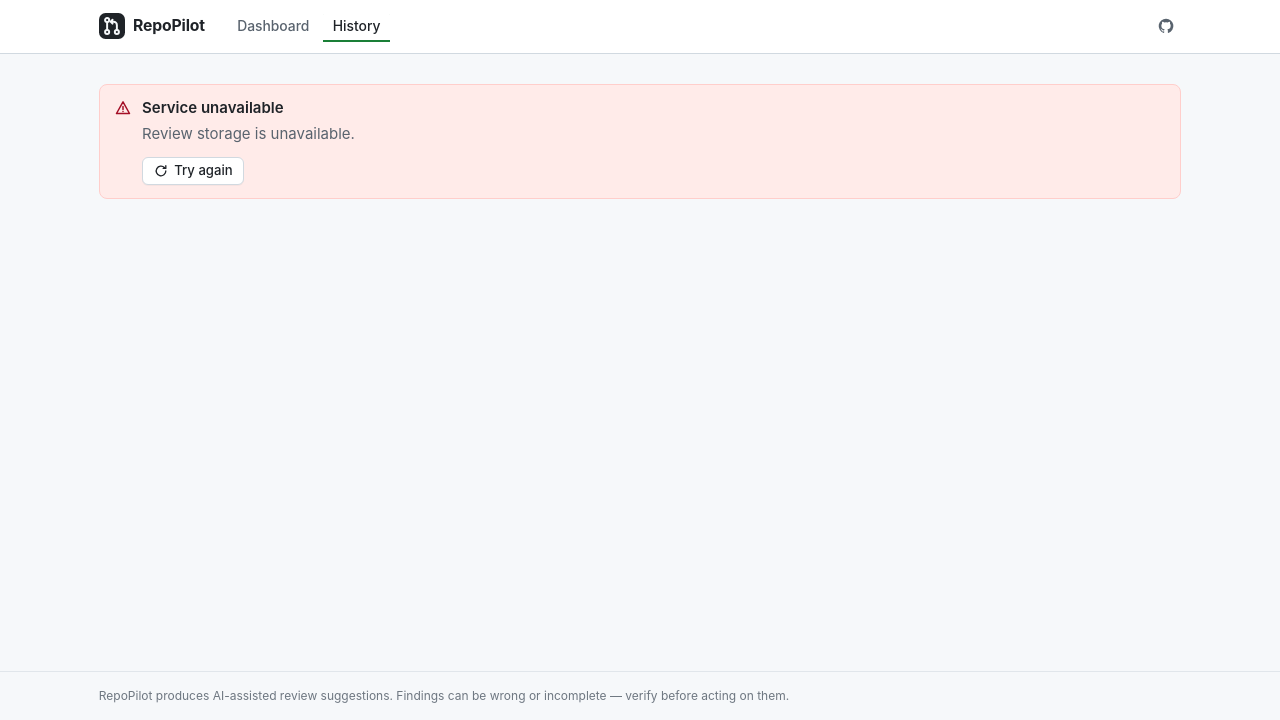
Test: ReviewDetailPage › shows other failures with a retry
Expected: the message shows "Review storage is unavailable.", [142,124,355,143]
Click the button "Try again" at (193, 171), box [142,156,244,185]
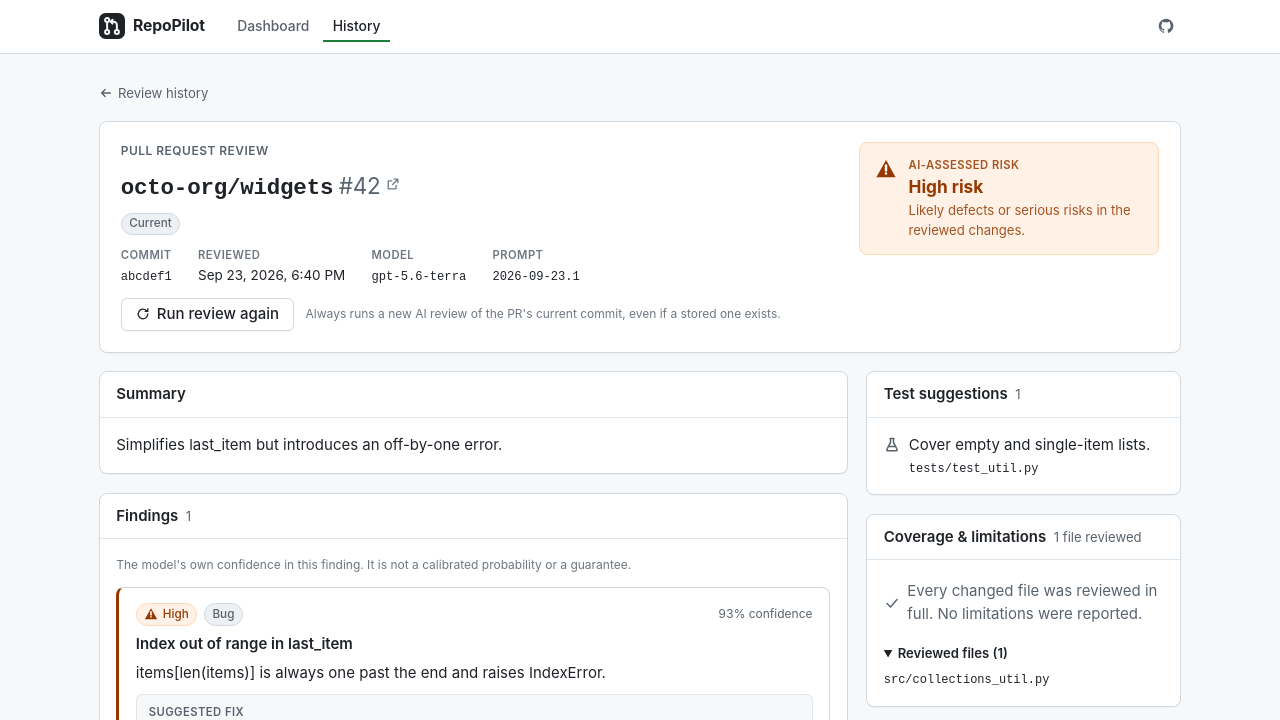
Expected: the text "High risk" is shown, [908,176,983,197]
